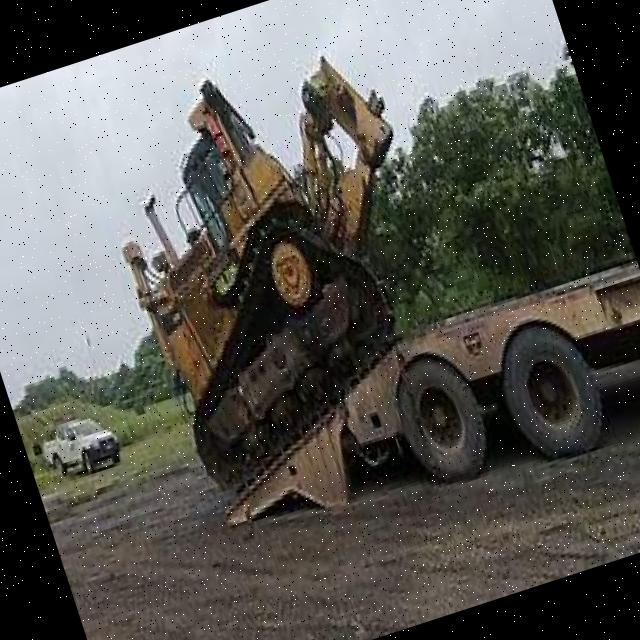Bulldozer: (49, 11, 494, 522)
